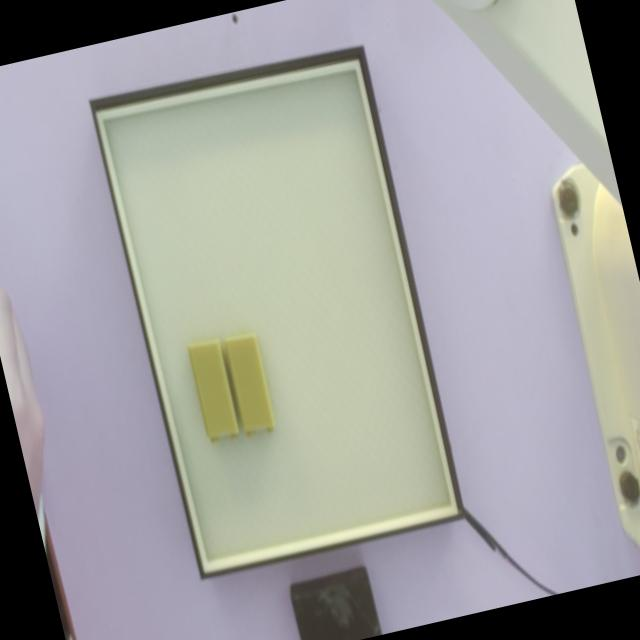bateria: (187, 339, 239, 443), (224, 335, 275, 439)
mesa: (88, 44, 467, 581)
